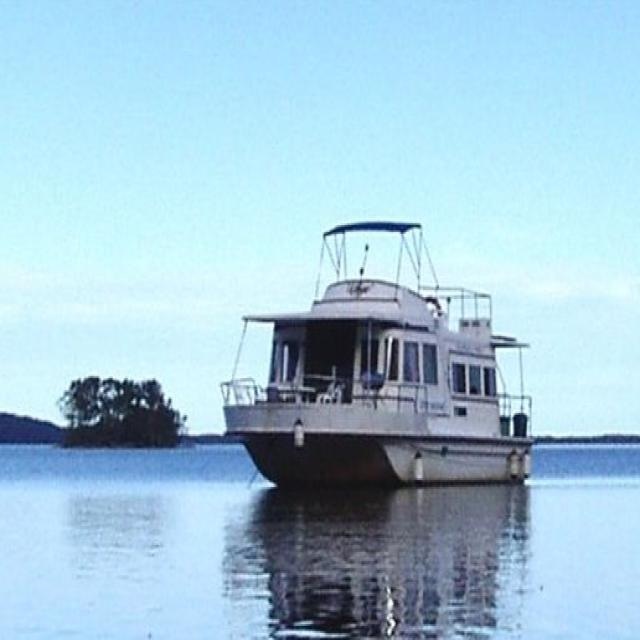houseboat: (207, 221, 539, 488)
